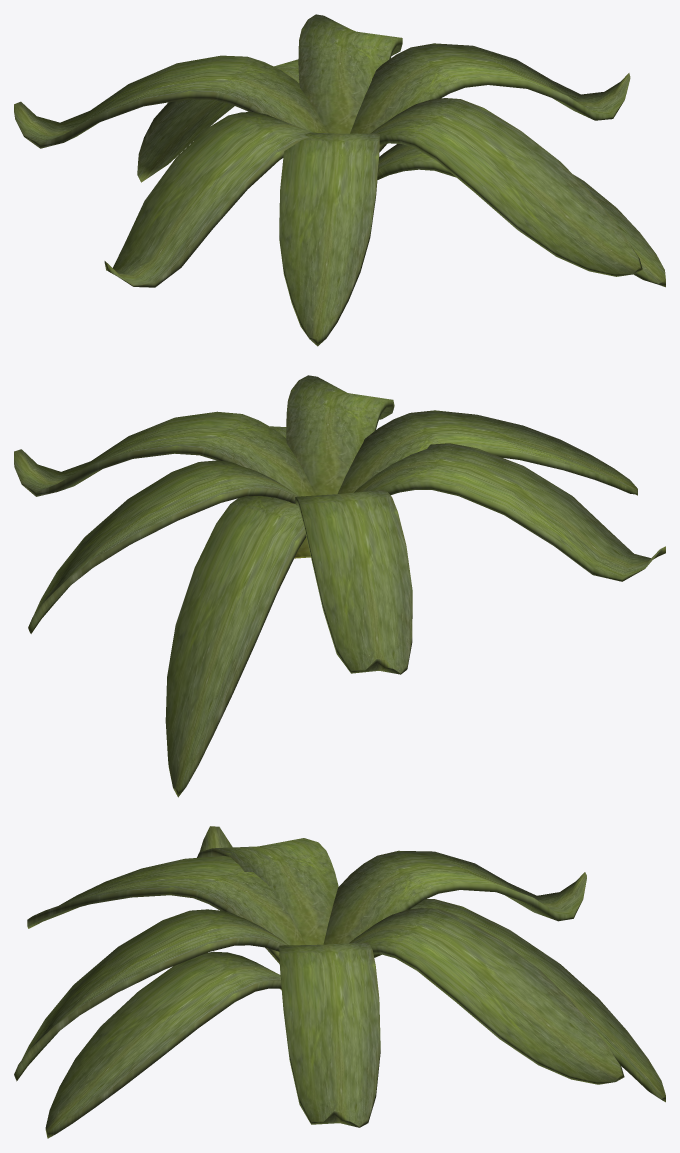
File: calyx8_sb3.dae
The picture shows the model from 3 angles, top to bottom: view 1: azimuth 30°, elevation 25°; view 2: azimuth 150°, elevation 25°; view 3: azimuth 270°, elevation 25°; orthographic projection.
Visible parts, largest first — view 1: calyx8, calyx6_001, calyx7_003, calyx7_002, calyx7, calyx8_001, calyx9, calyx6; view 2: calyx9, calyx7_002, calyx7_003, calyx7, calyx8_001, calyx6_001, calyx8; view 3: calyx8_001, calyx7, calyx6, calyx7_002, calyx8, calyx6_001, calyx7_003, calyx9.
Boxes of the visible parts, box(x1,y1,x2,y2) form: calyx8: box(370, 98, 642, 276); calyx6_001: box(279, 132, 379, 346); calyx7_003: box(104, 112, 313, 287); calyx7_002: box(14, 55, 327, 148); calyx7: box(350, 43, 630, 152); calyx8_001: box(298, 14, 402, 133); calyx9: box(137, 59, 299, 182); calyx6: box(377, 144, 665, 287); calyx9: box(165, 496, 306, 797); calyx7_002: box(295, 490, 412, 674); calyx7_003: box(354, 443, 665, 581); calyx7: box(14, 411, 315, 496); calyx8_001: box(28, 460, 299, 633); calyx6_001: box(337, 410, 637, 495); calyx8: box(286, 375, 394, 495); calyx8_001: box(349, 908, 624, 1084); calyx7: box(279, 942, 380, 1127); calyx6: box(45, 951, 281, 1138); calyx7_002: box(323, 850, 586, 944); calyx8: box(14, 909, 288, 1081); calyx6_001: box(27, 856, 305, 963); calyx7_003: box(197, 826, 338, 944); calyx9: box(373, 899, 665, 1102).
Size of the model in its own units: 0.13 by 0.1249 by 0.0455.
8 materials, 8 textured.
